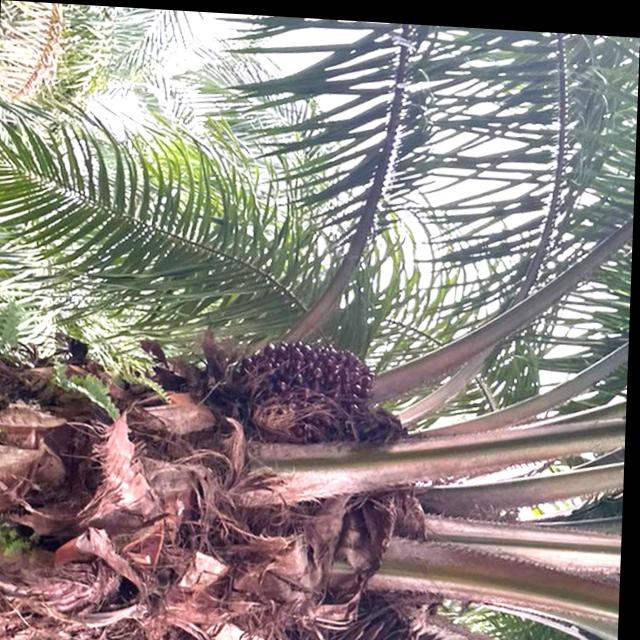ripe: (244, 330, 383, 434)
